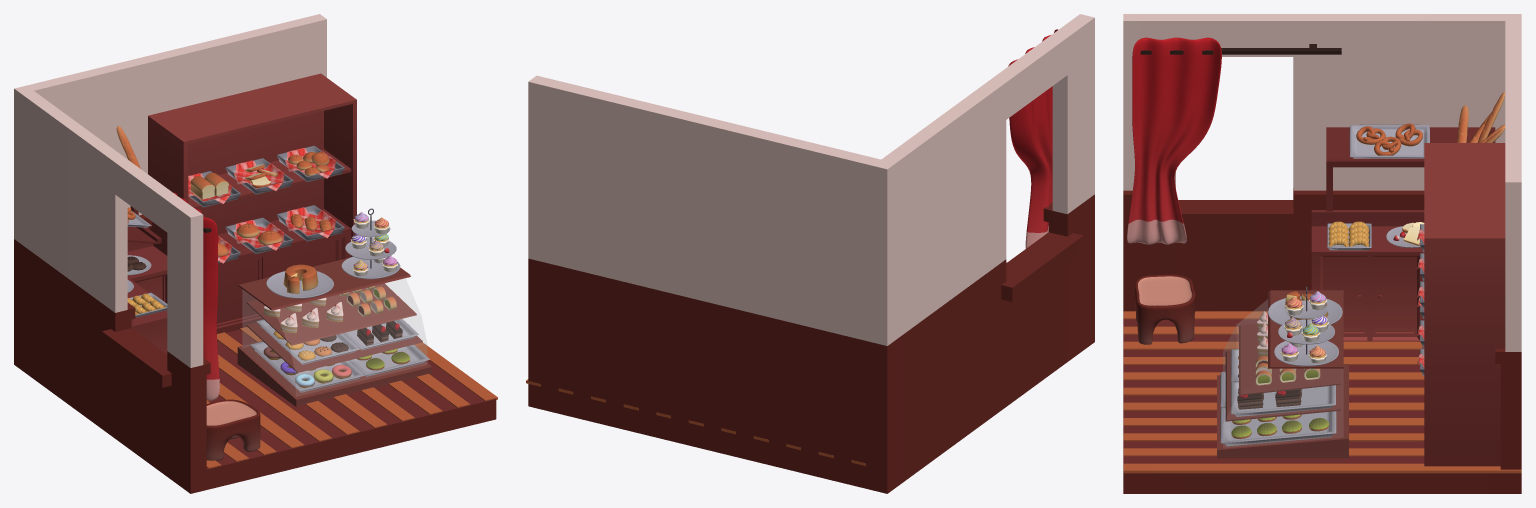
The model's file is teaShopInterior.glb.
3 views of the same model, side by side, from view 1: azimuth 30°, elevation 25°; view 2: azimuth 150°, elevation 25°; view 3: azimuth 270°, elevation 25° (orthographic). The views are drawn at different scales.
Visible parts, largest first — view 1: Cube, Cube.001, Cube.003, Cube.004, Cube.007, Cube.008, Cube.002, Cube.005, Cube.006, dishes.001, plate2.006, plate2.002 (+9 smaller); view 2: Cube, Cube.006; view 3: Cube, Cube.001, Cube.007, Cube.006, Cube.002, Cube.008, Cube.003, Cube.004, Cube.005, plate1.002, dishes.001, plate1.004 (+3 smaller).
Boxes of the visible parts, x1=… form: Cube: x1=14, y1=14, x2=496, y2=493; Cube.001: x1=148, y1=73, x2=356, y2=333; Cube.003: x1=242, y1=278, x2=426, y2=396; Cube.004: x1=237, y1=257, x2=431, y2=406; Cube.007: x1=206, y1=327, x2=497, y2=468; Cube.008: x1=206, y1=329, x2=495, y2=469; Cube.002: x1=127, y1=206, x2=167, y2=354; Cube.005: x1=206, y1=399, x2=260, y2=460; Cube.006: x1=174, y1=192, x2=219, y2=400; dishes.001: x1=341, y1=208, x2=400, y2=279; plate2.006: x1=276, y1=205, x2=344, y2=241; plate2.002: x1=225, y1=158, x2=293, y2=194; Cube: x1=528, y1=14, x2=1094, y2=493; Cube.006: x1=1008, y1=29, x2=1057, y2=248; Cube: x1=1123, y1=14, x2=1521, y2=493; Cube.001: x1=1424, y1=143, x2=1505, y2=466; Cube.007: x1=1123, y1=311, x2=1521, y2=473; Cube.006: x1=1127, y1=37, x2=1341, y2=244; Cube.002: x1=1311, y1=127, x2=1495, y2=348; Cube.008: x1=1123, y1=319, x2=1424, y2=463; Cube.003: x1=1223, y1=299, x2=1342, y2=447; Cube.004: x1=1217, y1=290, x2=1348, y2=458; Cube.005: x1=1134, y1=274, x2=1195, y2=344; plate1.002: x1=1220, y1=407, x2=1336, y2=446; dishes.001: x1=1274, y1=286, x2=1338, y2=366; plate1.004: x1=1231, y1=381, x2=1335, y2=416.
Bounding box in the file's own units: 9.97 × 8.31 × 9.63.
Materials: 4 (3 with a texture image).
